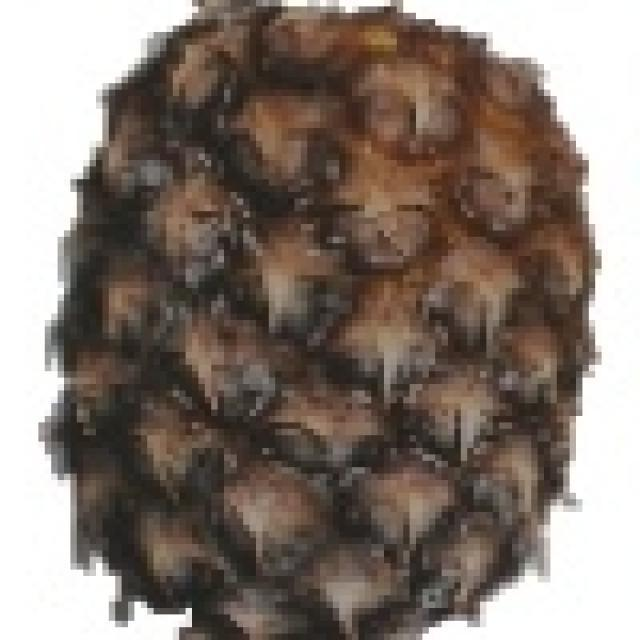pineapple: (46, 0, 595, 640)
